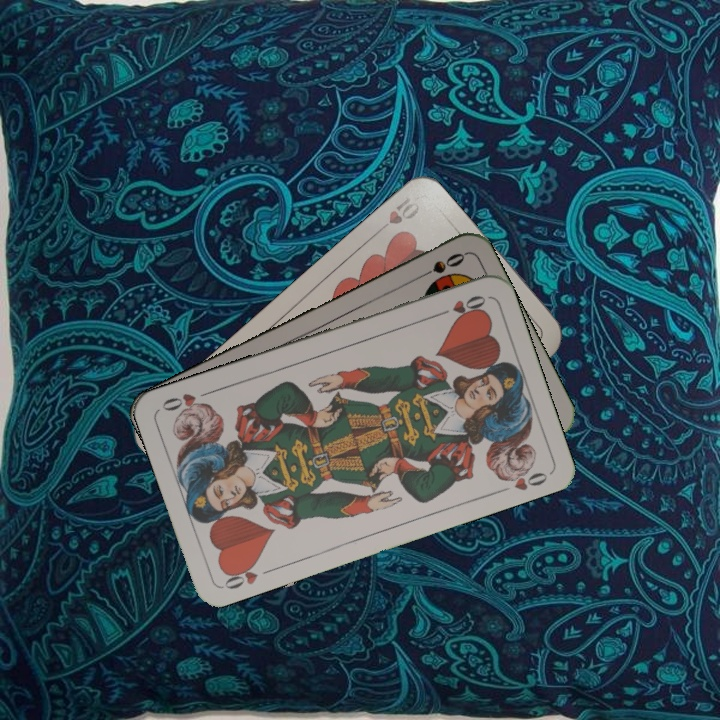H10: (372, 192, 422, 238)
HO: (220, 557, 276, 592), (432, 291, 489, 320)
SO: (412, 248, 468, 283)
